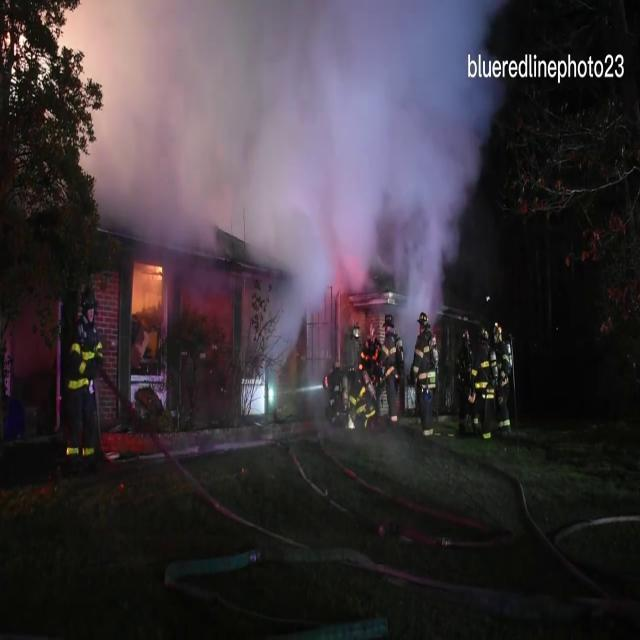Smoke: (88, 2, 504, 312)
